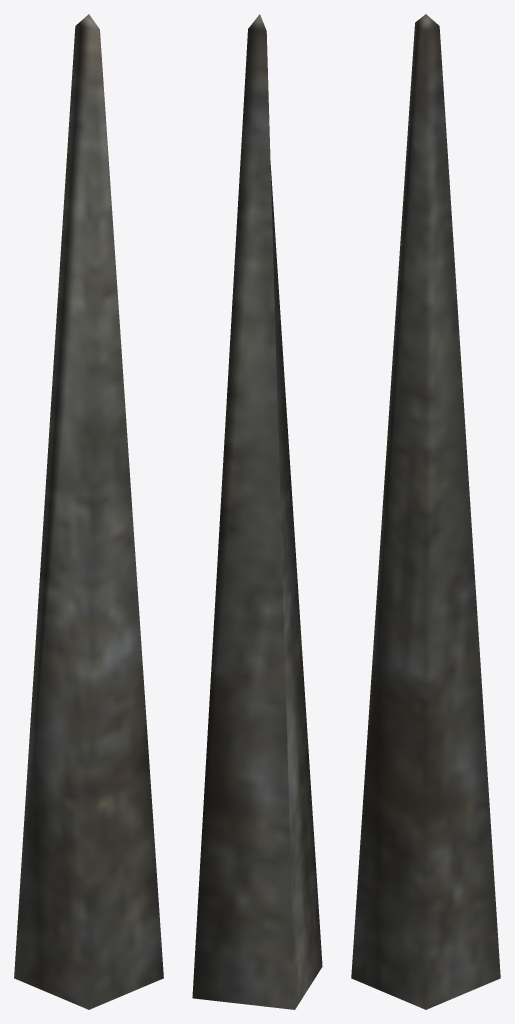
The model's file is Stall_small2_LOD1.fbx.
The picture shows the model from 3 angles, left to right: view 1: azimuth 90°, elevation 25°; view 2: azimuth 210°, elevation 25°; view 3: azimuth 270°, elevation 25°; orthographic projection.
Parts seen in each view (by area): view 1: pCylinder31; view 2: pCylinder31; view 3: pCylinder31.
Boxes of the visible parts, <box> form: pCylinder31: <box>14,14,163,1009</box>; pCylinder31: <box>192,14,322,1009</box>; pCylinder31: <box>351,14,500,1009</box>.
Bounding box in the file's own units: 0.4465 × 3.17 × 0.4465.
